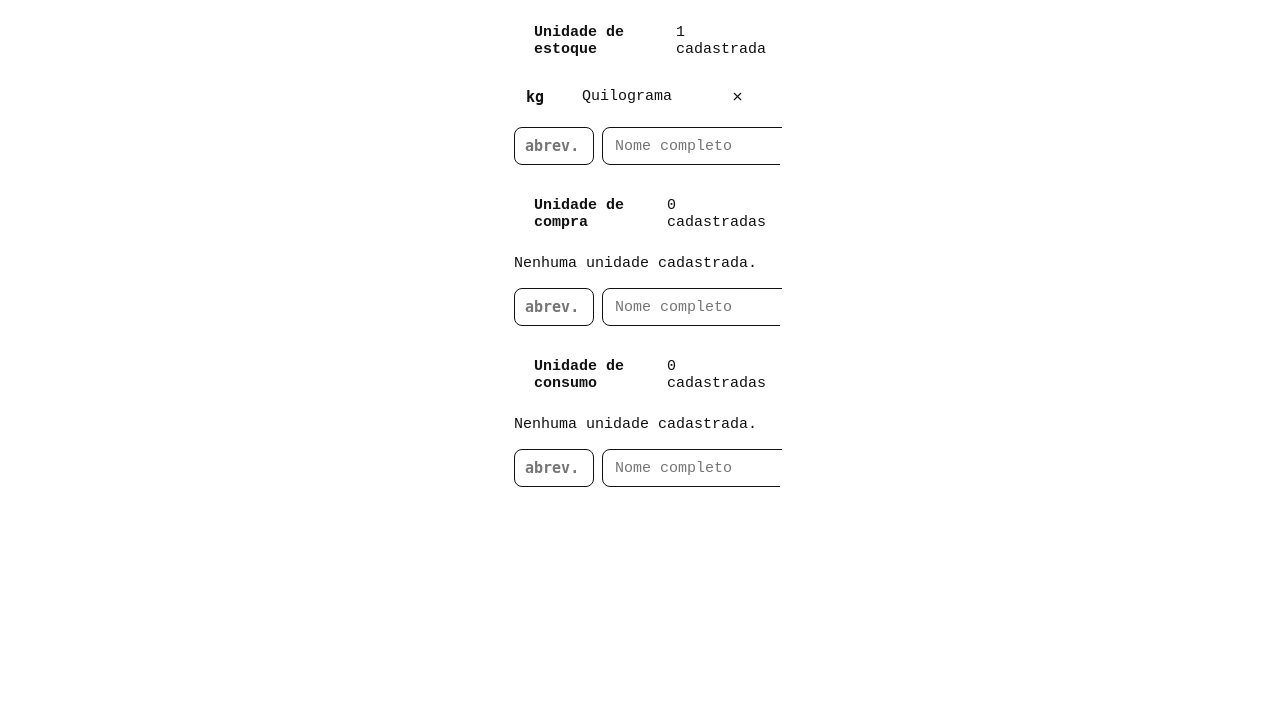
it: UnidadesMedidaTab, contagem antes de excluir (B1) › conta certo os produtos afetados quando a consulta funciona
Expected: the text "Quilograma" is shown, x1=582 y1=88 x2=672 y2=105
Click the button titled "Remover". click: {"x": 738, "y": 96}
box: x1=721 y1=82 x2=754 y2=111
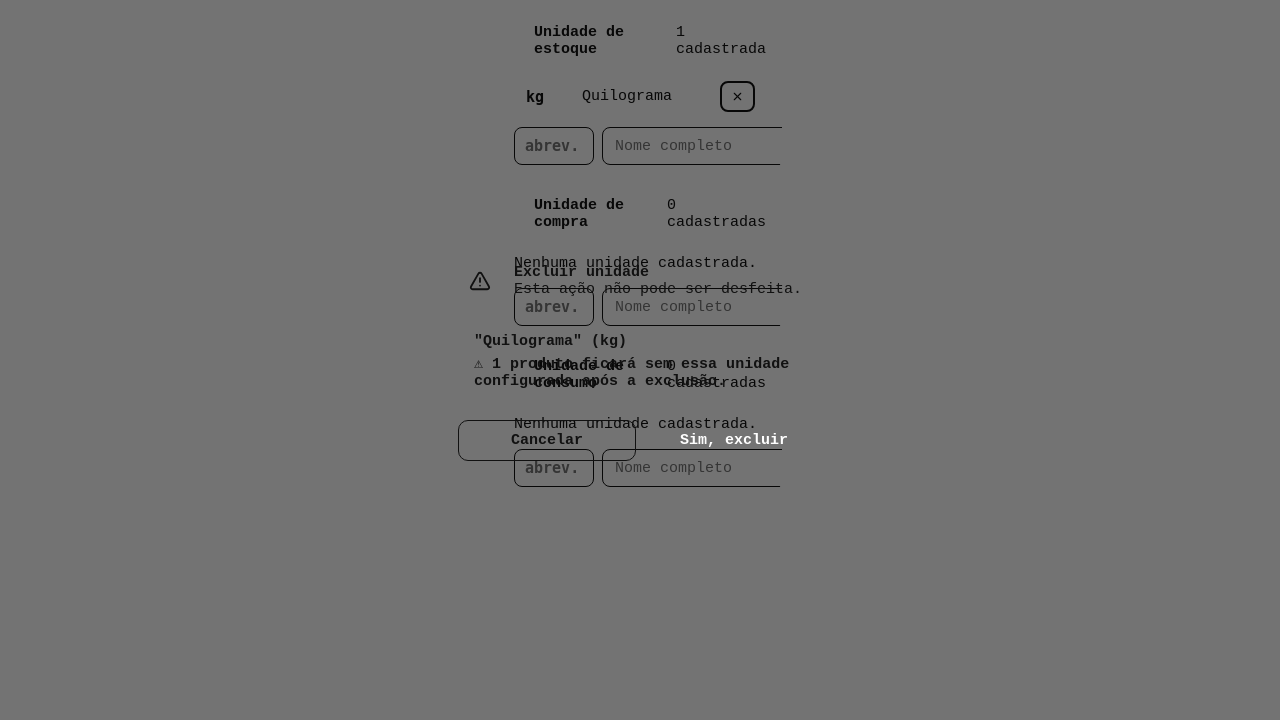
Now the text "1 produto ficará sem essa unidade" is shown, box x1=474 y1=354 x2=806 y2=390
